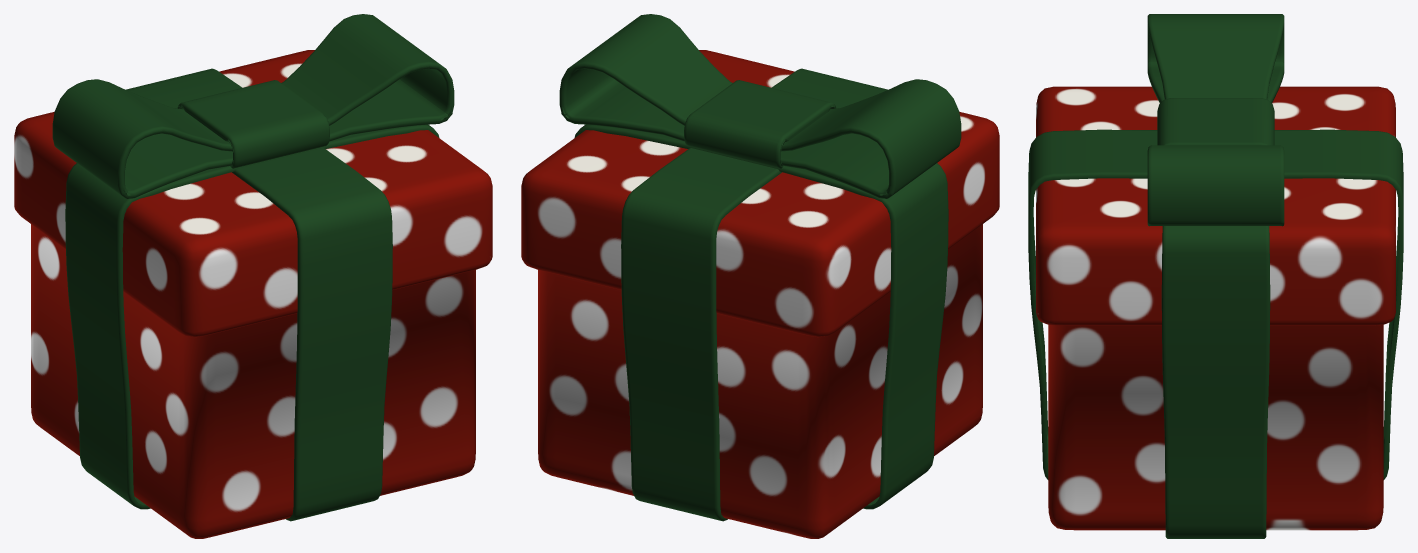
The model's file is gift-157.glb.
3 renders of one model, left to right at view 1: azimuth 30°, elevation 25°; view 2: azimuth 150°, elevation 25°; view 3: azimuth 270°, elevation 25°, orthographic.
Parts seen in each view (by area): view 1: Cube.001; view 2: Cube.001; view 3: Cube.001.
Boxes of the visible parts, x1,y1,x2,y2 form: Cube.001: (14, 14, 492, 538); Cube.001: (521, 14, 999, 538); Cube.001: (1028, 14, 1403, 538).
Bounding box in the file's own units: 2.32 × 2.56 × 2.24.
Materials: 1 (1 with a texture image).
